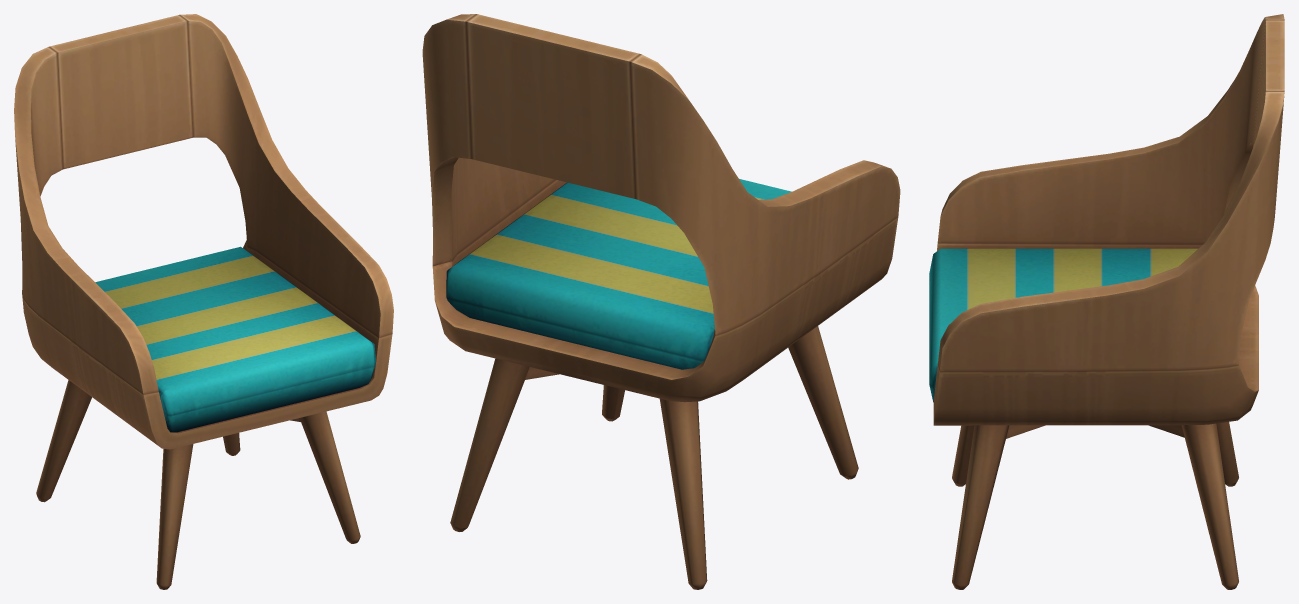
File: lovely_dining_chair.glb
The picture shows the model from 3 angles, left to right: view 1: azimuth 30°, elevation 25°; view 2: azimuth 150°, elevation 25°; view 3: azimuth 270°, elevation 25°; orthographic projection. The views are drawn at different scales.
Visible parts, largest first — view 1: TinyLiving_LovelyDiningChair; view 2: TinyLiving_LovelyDiningChair; view 3: TinyLiving_LovelyDiningChair.
Part boxes in pixels (box(x1,y1,x2,y2)): TinyLiving_LovelyDiningChair: box(14, 14, 393, 589); TinyLiving_LovelyDiningChair: box(422, 14, 900, 589); TinyLiving_LovelyDiningChair: box(929, 14, 1284, 589).
Bounding box in the file's own units: 0.623 × 0.9886 × 0.6607.
Materials: 1 (1 with a texture image).
